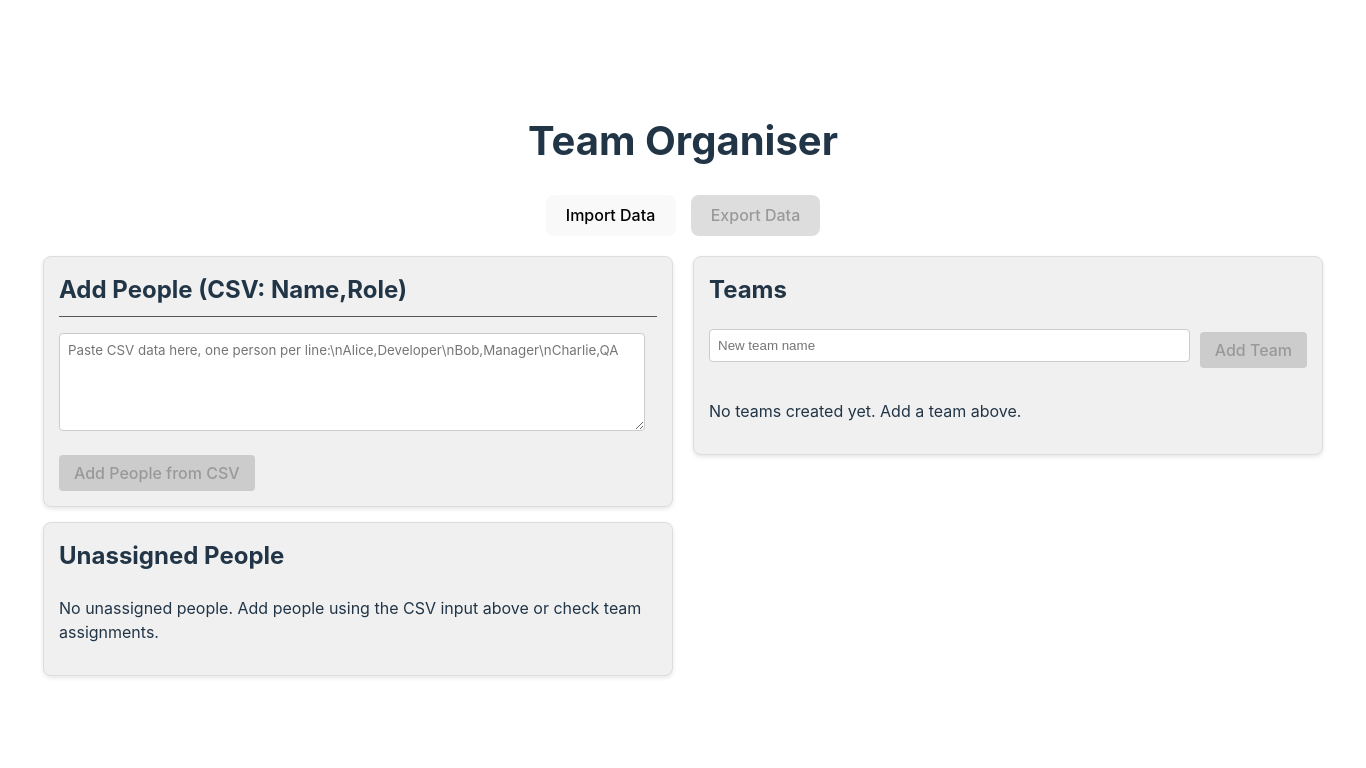
Test: App Component › Team Management › creates a new team
// Enter team name
In the field with placeholder "New team name": (949, 346) left=709, top=330, right=1190, bottom=362, type "Engineering Team"
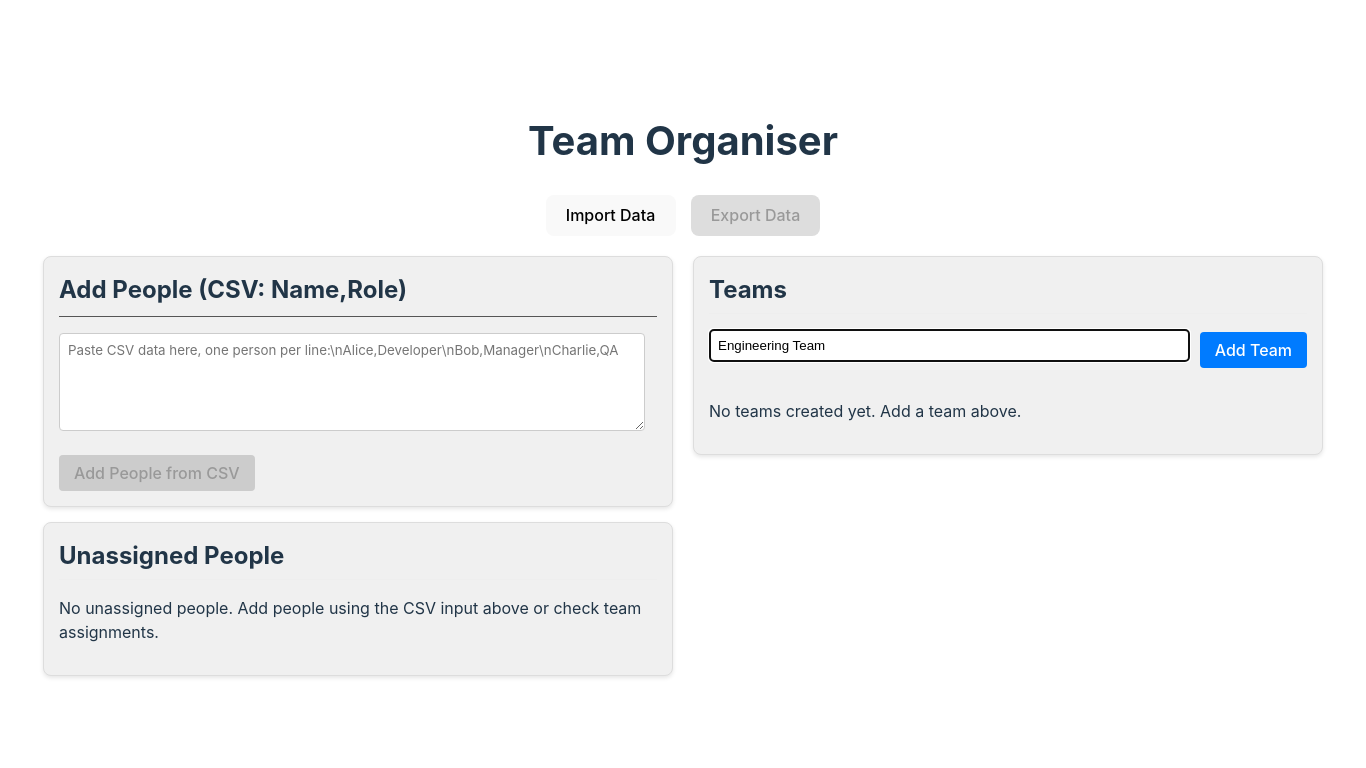
// Click add team button
Click the button "Add Team": (1253, 350) left=1200, top=332, right=1307, bottom=368
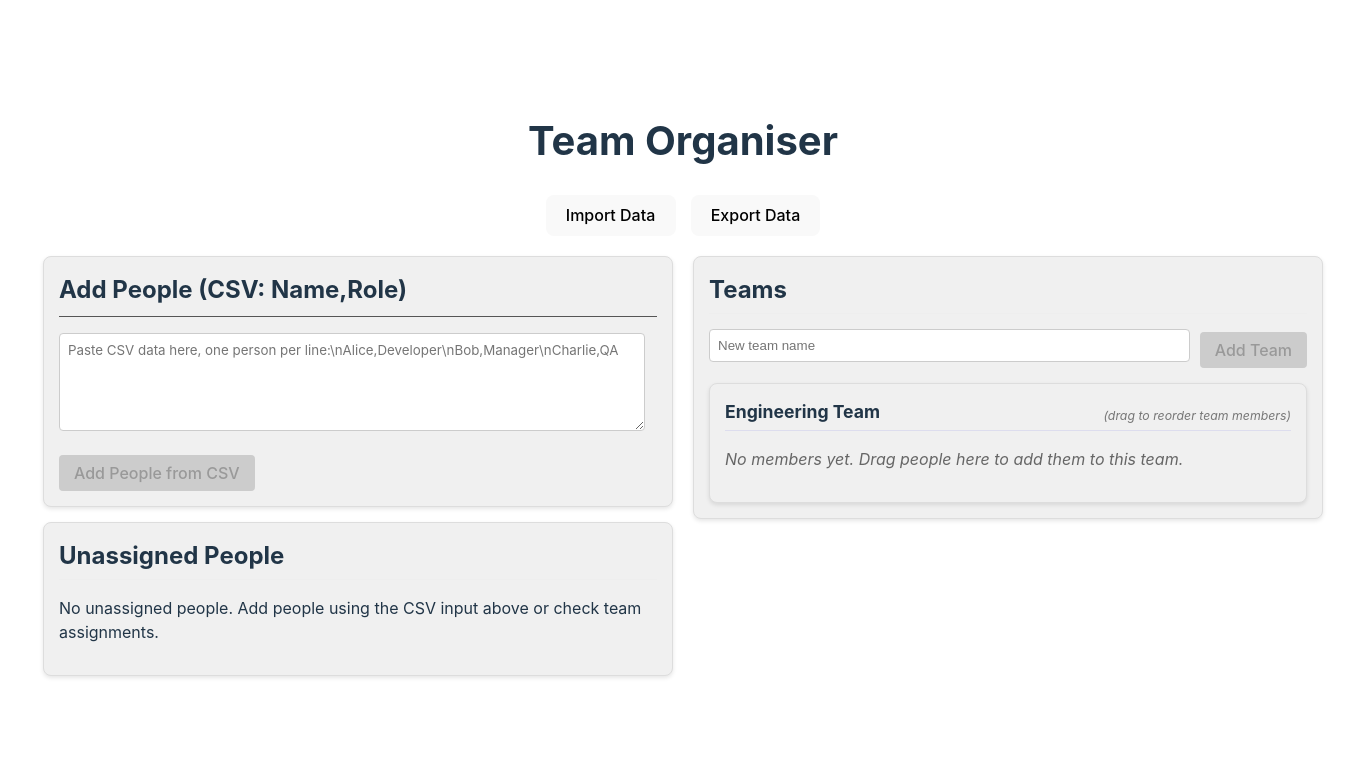
Check: the heading "Engineering Team" is shown, box left=725, top=399, right=1291, bottom=431
